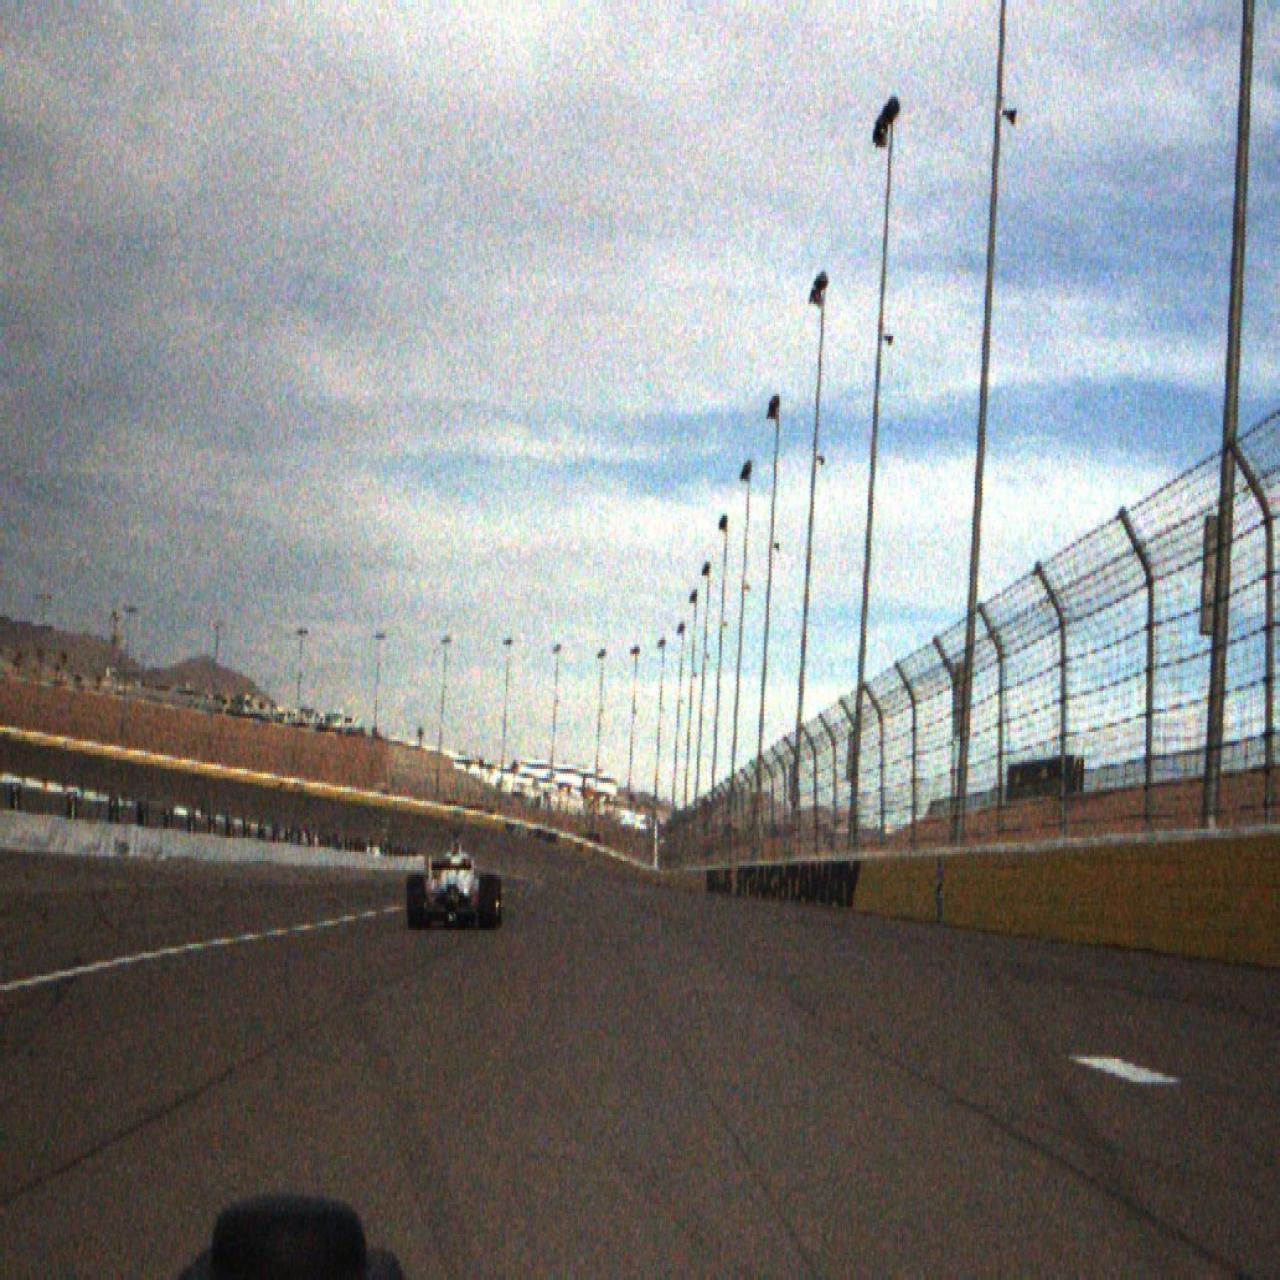AV: (407, 828, 502, 931)
Wheel: (479, 874, 499, 930), (407, 874, 425, 930)
